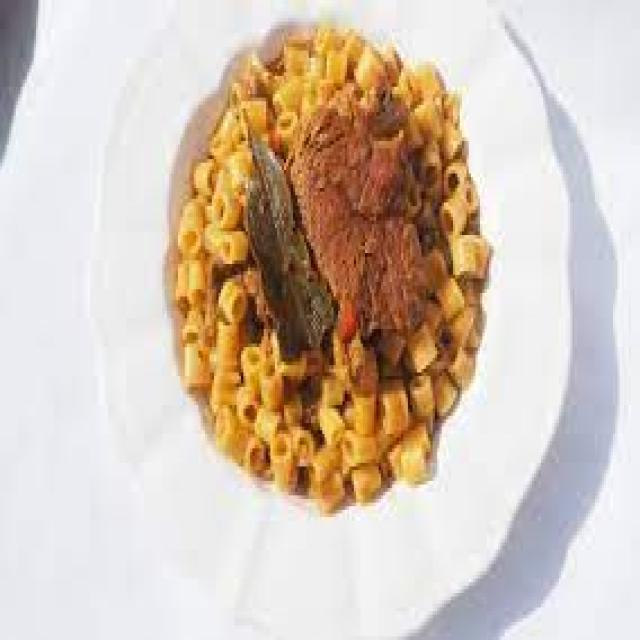Pasta: (165, 26, 492, 507)
